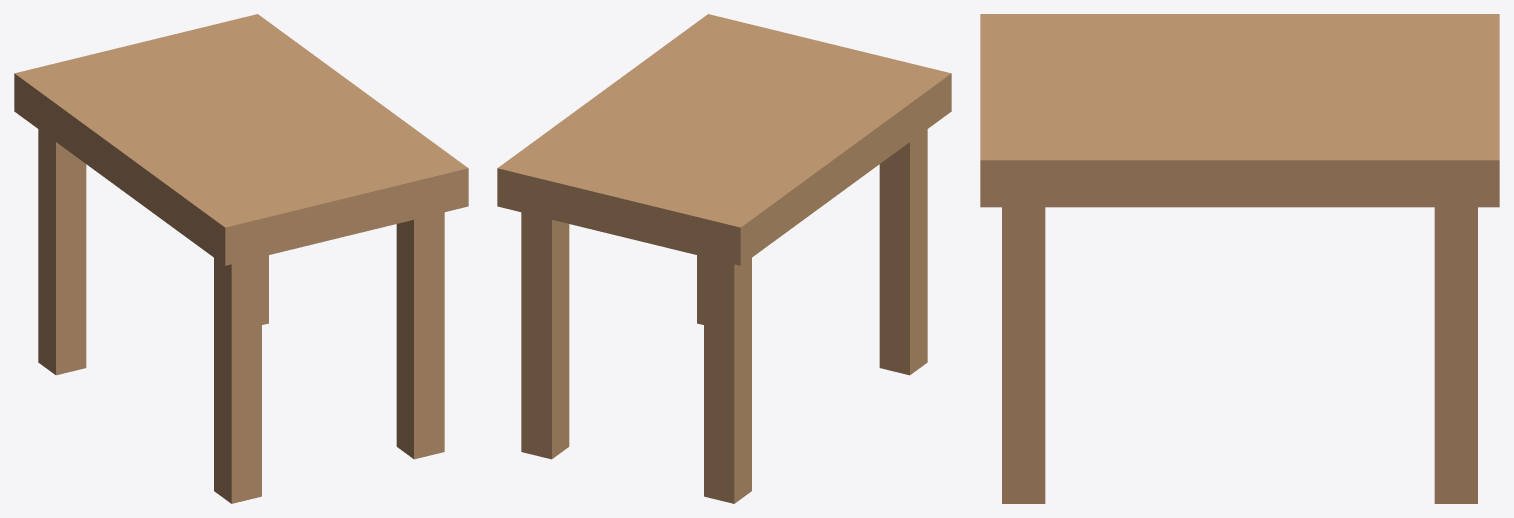
File: synthetic-bench.glb
The picture shows the model from 3 angles, left to right: view 1: azimuth 30°, elevation 25°; view 2: azimuth 150°, elevation 25°; view 3: azimuth 270°, elevation 25°; orthographic projection. The views are drawn at different scales.
Bounding box in the file's own units: 0.8 × 0.9 × 1.2.
